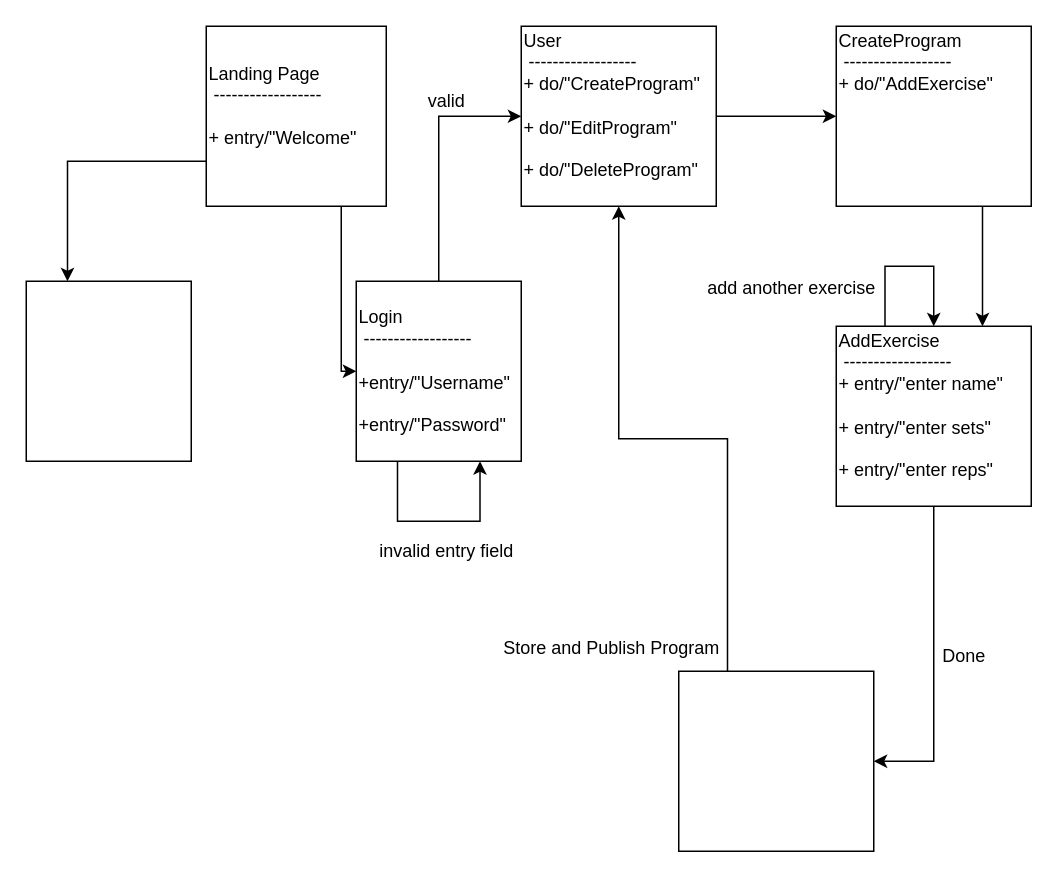
Image size: 1058x878. Some labels were removed from this diagram. The centre of each missing label's shape, as x and y in pixels:
"Read Program ------------------" goes at point (108, 370).
"SaveProgram()" goes at point (775, 760).
